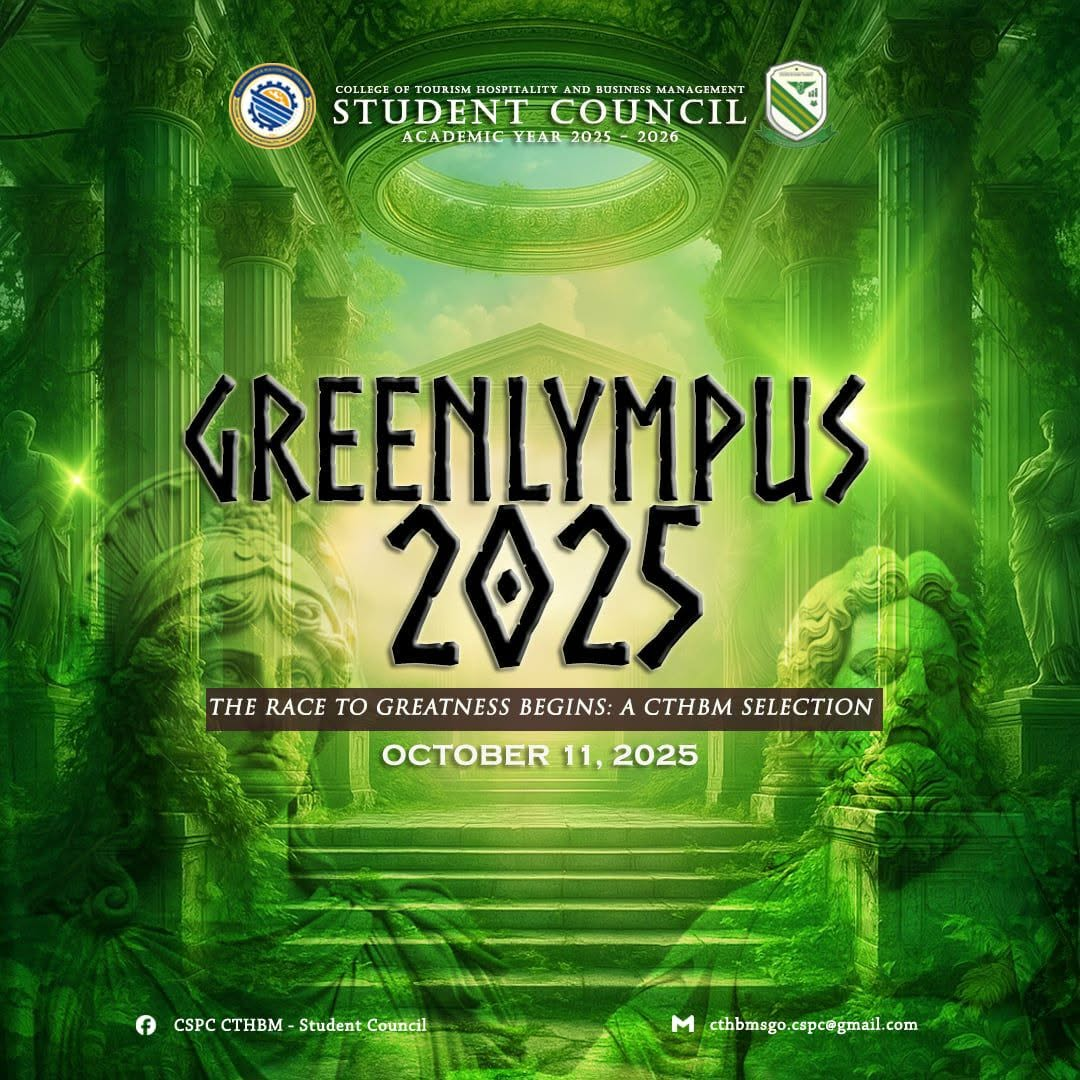logo: (227, 60, 319, 150), (762, 60, 829, 141)
text: (186, 374, 868, 504), (387, 505, 702, 670), (204, 688, 883, 732), (333, 98, 744, 125), (381, 744, 698, 769), (334, 84, 744, 94), (708, 1016, 918, 1034), (174, 1017, 427, 1031), (402, 131, 677, 141)
underlay: (204, 687, 885, 732), (367, 734, 711, 783)
